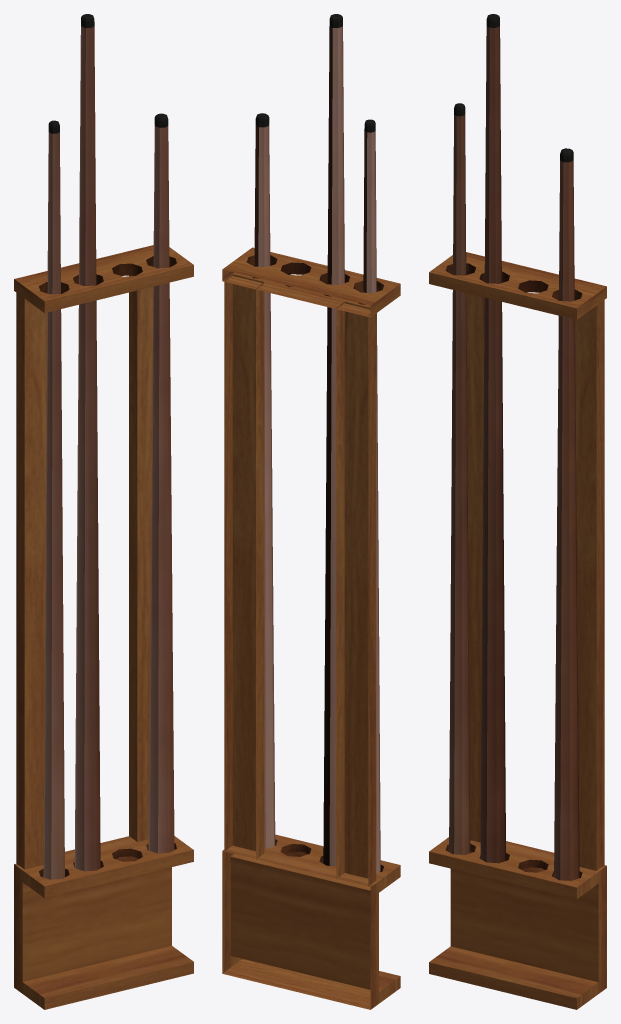
File: suporte_tacos.glb
3 views of the same model, side by side, from view 1: azimuth 30°, elevation 25°; view 2: azimuth 150°, elevation 25°; view 3: azimuth 330°, elevation 25° (orthographic).
Parts seen in each view (by area): view 1: Cube.004, Cylinder.010, Cylinder.011, Cylinder.009; view 2: Cube.004, Cylinder.010, Cylinder.011, Cylinder.009; view 3: Cube.004, Cylinder.010, Cylinder.011, Cylinder.009.
Boxes of the visible parts, x1,y1,x2,y2 form: Cube.004: (14, 245, 193, 1009); Cylinder.010: (74, 14, 100, 871); Cylinder.011: (148, 113, 174, 853); Cylinder.009: (43, 120, 64, 879); Cube.004: (222, 247, 400, 1009); Cylinder.010: (323, 14, 344, 866); Cylinder.011: (254, 113, 275, 848); Cylinder.009: (363, 119, 380, 873); Cube.004: (429, 252, 606, 1009); Cylinder.010: (480, 14, 506, 863); Cylinder.011: (554, 148, 579, 880); Cylinder.009: (449, 103, 470, 854).
Bounding box in the file's own units: 0.3 × 1.87 × 0.1061.
2 materials, 2 textured.
